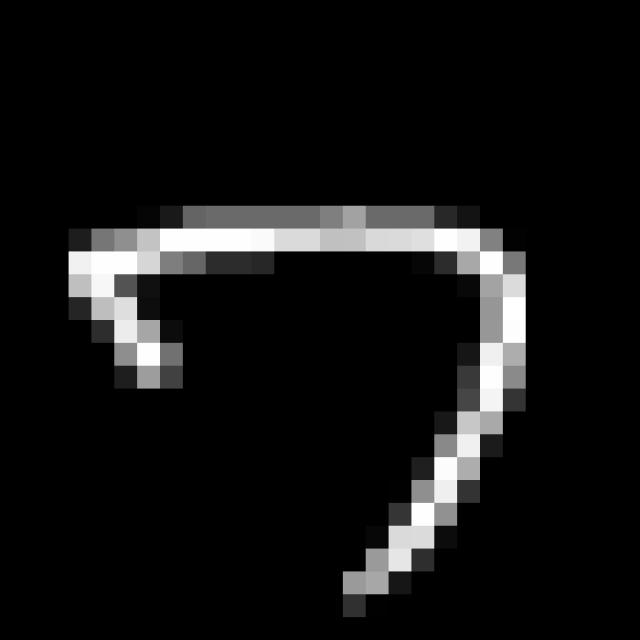seven -7-: (52, 196, 544, 605)
